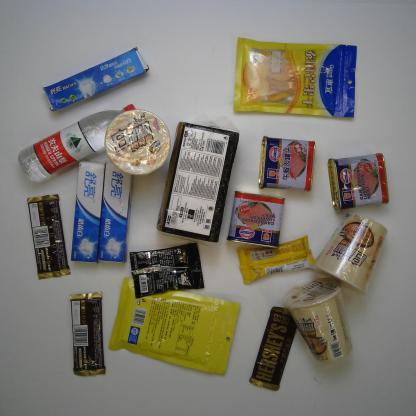Canned Food: (324, 152, 392, 214), (223, 188, 287, 251), (257, 134, 317, 193)
Chocolate: (247, 303, 302, 394), (24, 191, 73, 282), (236, 233, 315, 286), (66, 289, 108, 378)
Dried Fruit: (106, 271, 244, 379), (232, 35, 361, 121)
Drink: (16, 102, 141, 185)
Instant Drink: (127, 240, 206, 301)
Instant Noodles: (310, 209, 392, 298), (280, 274, 355, 365), (102, 107, 173, 177)
Personal Hygiene: (41, 44, 152, 114), (69, 158, 108, 266), (96, 158, 135, 265)
Tissue: (153, 112, 241, 248)
